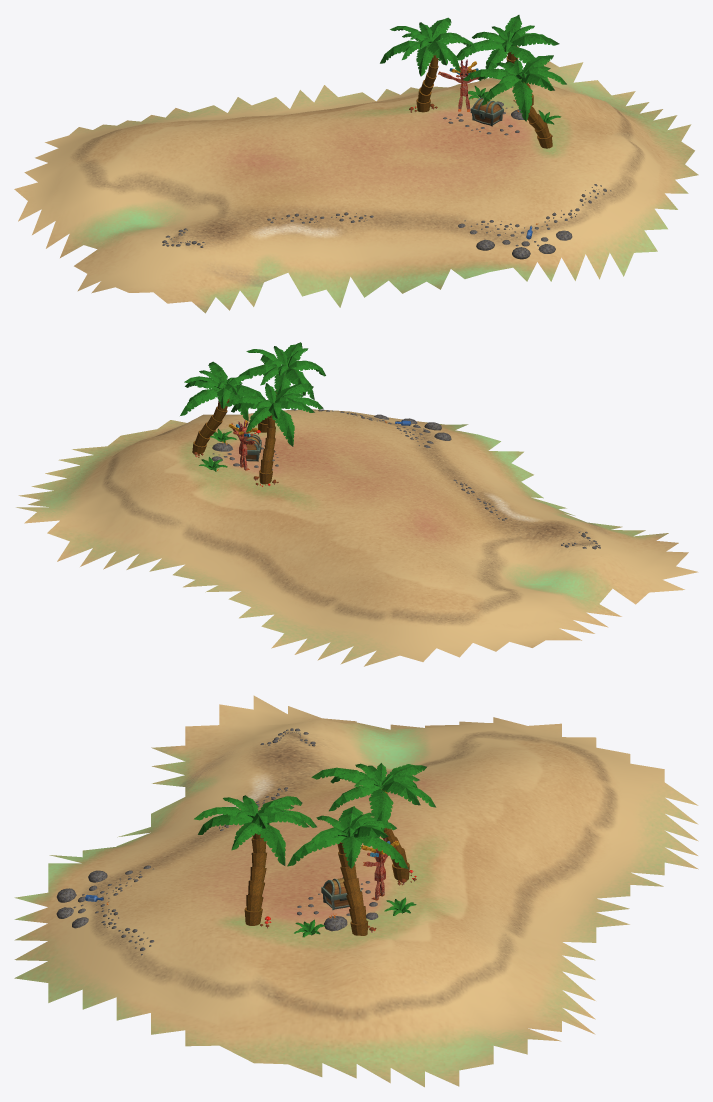
Rendered from ile_3.glb.
The picture shows the model from 3 angles, top to bottom: view 1: azimuth 30°, elevation 25°; view 2: azimuth 150°, elevation 25°; view 3: azimuth 270°, elevation 25°; orthographic projection. The views are drawn at different scales.
Visible parts, largest first — view 1: Terrain, Box001.004_scatola_0, palma tronco.001_Material.019_0, palma tronco.017_Material.019_0, Foglia.249_palmafoglia.001_0; view 2: Terrain, palma tronco.001_Material.019_0, palma tronco.000_Material.019_0; view 3: Terrain, palma tronco.017_Material.019_0, palma tronco.000_Material.019_0, Box001.004_scatola_0, Foglia.026_palmafoglia.001_0, Foglia.261_palmafoglia.001_0.
Boxes of the visible parts, x1=… form: Terrain: x1=14, y1=61, x2=698, y2=313; Box001.004_scatola_0: x1=470, y1=97, x2=503, y2=126; palma tronco.001_Material.019_0: x1=416, y1=55, x2=438, y2=112; palma tronco.017_Material.019_0: x1=518, y1=82, x2=552, y2=148; Foglia.249_palmafoglia.001_0: x1=512, y1=80, x2=532, y2=121; Terrain: x1=16, y1=409, x2=698, y2=666; palma tronco.001_Material.019_0: x1=259, y1=415, x2=275, y2=484; palma tronco.000_Material.019_0: x1=192, y1=398, x2=229, y2=454; Terrain: x1=14, y1=695, x2=698, y2=1087; palma tronco.017_Material.019_0: x1=244, y1=833, x2=266, y2=925; palma tronco.000_Material.019_0: x1=337, y1=842, x2=368, y2=935; Box001.004_scatola_0: x1=321, y1=877, x2=361, y2=910; Foglia.026_palmafoglia.001_0: x1=369, y1=788, x2=393, y2=830; Foglia.261_palmafoglia.001_0: x1=257, y1=824, x2=285, y2=865.
Size of the model in its own units: 22.26 by 5.09 by 17.12.
13 materials, 12 textured.
